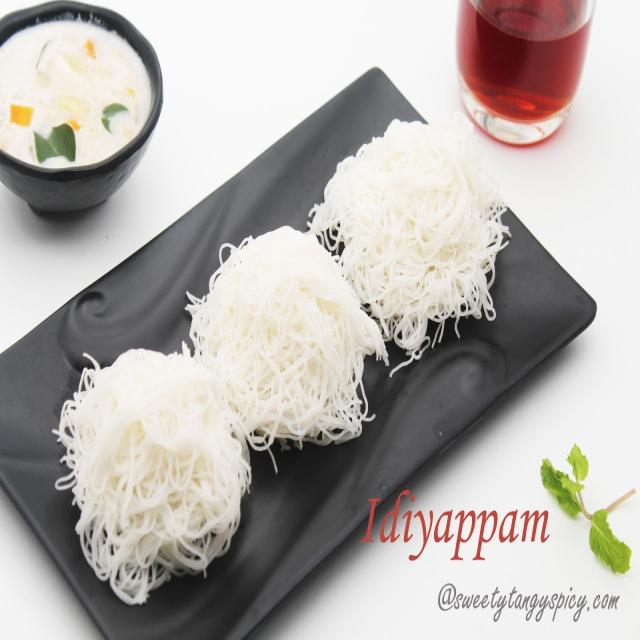IDIYAPPAM: (60, 115, 501, 600)
